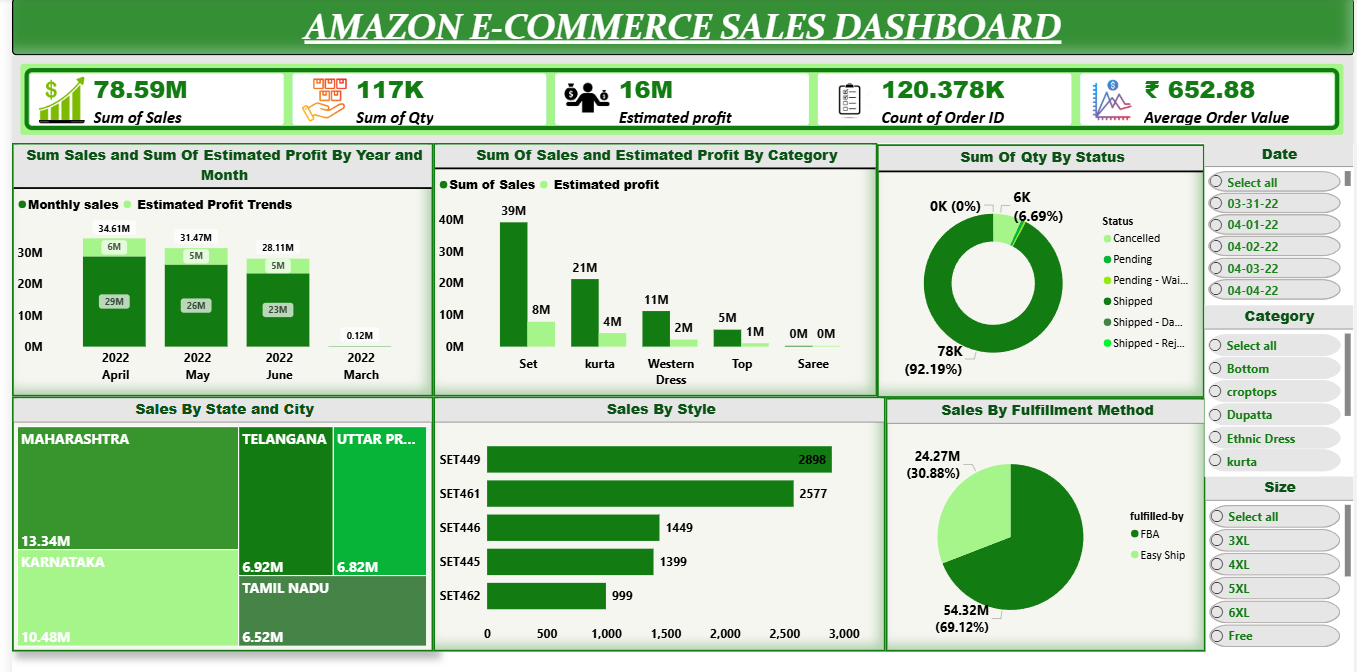

Layout of this report page (visuals, bound fields, positions):
{"tool":"powerbi","page":{"name":"Page 1","canvas":[1800,1000],"ordinal":0},"visuals":[{"type":"textbox","box":[0,0,1799.6,77.1],"z":0},{"type":"cardVisual","fields":{"Data":["Sum(Amazon Sale Report.Amount)","Sum(Amazon Sale Report.Qty)","Sum(Amazon Sale Report.Estimated profit)","Count(Amazon Sale Report.Order ID)","Amazon Sale Report.Average Order value"]},"box":[0,77.1,1799.6,117.3],"z":1000},{"type":"lineStackedColumnComboChart","title":"Sum Sales and Sum Of Estimated Profit By Year and Month","fields":{"Category":["Amazon Sale Report.YMD.MonthinText","Amazon Sale Report.YMD.yearcolumn"],"Y":["Sum(Amazon Sale Report.Amount)","Sum(Amazon Sale Report.Estimated profit)","select"]},"box":[0,194.4,564.7,340.1],"z":2000},{"type":"clusteredColumnChart","title":"Sum Of Sales and  Estimated Profit By Category","fields":{"Category":["Amazon Sale Report.Category"],"Y":["Sum(Amazon Sale Report.Sales)","Sum(Amazon Sale Report.Estimated profit)"]},"box":[564.7,194.4,594.8,340.1],"z":3000},{"type":"treemap","title":"Sales By State and City","fields":{"Group":["Amazon Sale Report.ship-state","Amazon Sale Report.ship-city"],"Values":["Sum(Amazon Sale Report.Amount)"]},"box":[0,534.5,564.7,341.8],"z":4000},{"type":"pieChart","title":"Sales By Fulfillment Method","fields":{"Category":["Amazon Sale Report.fulfilled-by"],"Y":["Sum(Amazon Sale Report.Amount)"]},"box":[1171.3,536.2,429,340.1],"z":5000},{"type":"clusteredBarChart","title":"Sales By Style","fields":{"Category":["Amazon Sale Report.Style"],"Y":["Sum(Amazon Sale Report.Sales)"]},"box":[564.7,534.5,606.6,341.8],"z":6000},{"type":"donutChart","title":"Sum Of Qty By Status","fields":{"Series":["Amazon Sale Report.Status"],"Y":["Sum(Amazon Sale Report.Qty)"]},"box":[1159.5,196,439,340.1],"z":7000},{"type":"listSlicer","fields":{"Values":["Amazon Sale Report.Date"]},"box":[1598.5,194.4,201.1,217.8],"z":8000},{"type":"listSlicer","fields":{"Values":["Amazon Sale Report.Category"]},"box":[1598.5,412.2,201.1,229.6],"z":9000},{"type":"listSlicer","fields":{"Values":["Amazon Sale Report.Size"]},"box":[1600.2,641.8,199.4,234.6],"z":10000}]}

Visuals, with their boxes on the page's 1800x1000 design canvas (x1, y1, x2, y2). These are canvas units, not pixel positions in the 1357x672 screenshot, which may show the page scaled, cropped or inside an application window:
textbox: l=0, t=0, r=1800, b=77
cardVisual - Sum(Amazon Sale Report.Amount) x Sum(Amazon Sale Report.Qty): l=0, t=77, r=1800, b=194
"Sum Sales and Sum Of Estimated Profit By Year and Month" lineStackedColumnComboChart: l=0, t=194, r=565, b=534
"Sum Of Sales and  Estimated Profit By Category" clusteredColumnChart: l=565, t=194, r=1160, b=534
"Sales By State and City" treemap: l=0, t=534, r=565, b=876
"Sales By Fulfillment Method" pieChart: l=1171, t=536, r=1600, b=876
"Sales By Style" clusteredBarChart: l=565, t=534, r=1171, b=876
"Sum Of Qty By Status" donutChart: l=1160, t=196, r=1598, b=536
listSlicer - Amazon Sale Report.Date: l=1598, t=194, r=1800, b=412
listSlicer - Amazon Sale Report.Category: l=1598, t=412, r=1800, b=642
listSlicer - Amazon Sale Report.Size: l=1600, t=642, r=1800, b=876
